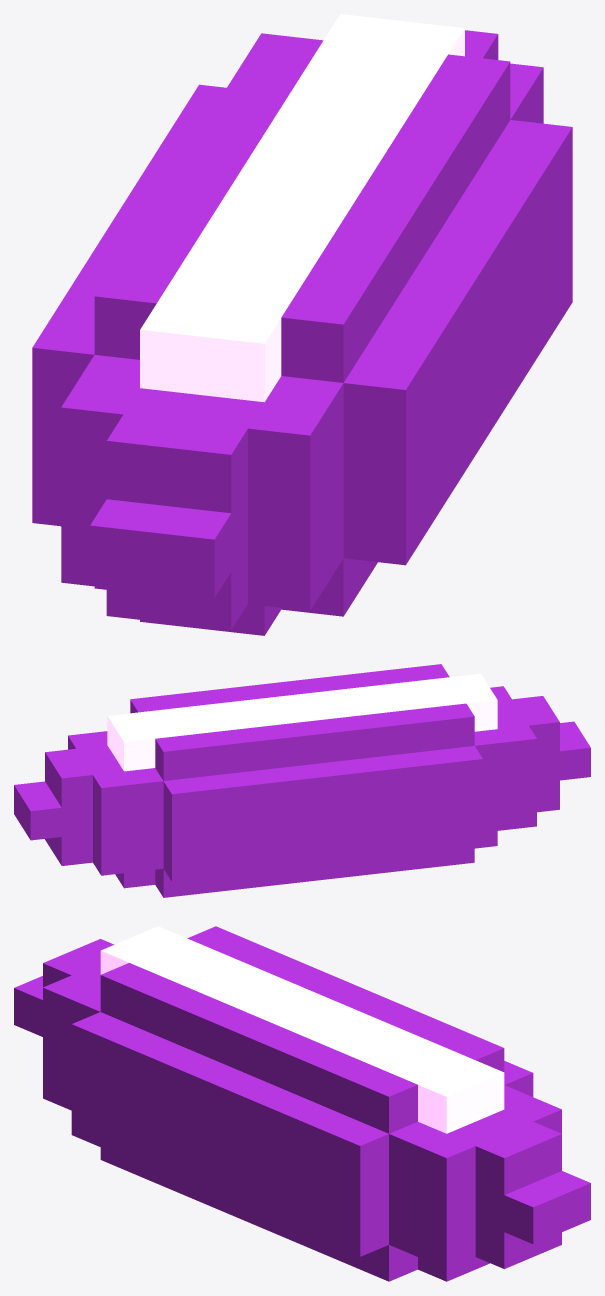
File: item_ESCAPE.glb
3 views of the same model, one above another, from view 1: azimuth 30°, elevation 25°; view 2: azimuth 150°, elevation 25°; view 3: azimuth 270°, elevation 25° (orthographic). The views are drawn at different scales.
Visible parts, largest first — view 1: item_ESCAPE; view 2: item_ESCAPE; view 3: item_ESCAPE.
Part boxes in pixels (left/top/right/bottom): item_ESCAPE: left=32, top=14, right=572, bottom=635; item_ESCAPE: left=14, top=664, right=590, bottom=897; item_ESCAPE: left=14, top=926, right=590, bottom=1281.
Bounding box in the file's own units: 0.3214 × 0.1136 × 0.3214.
1 material, 1 textured.
